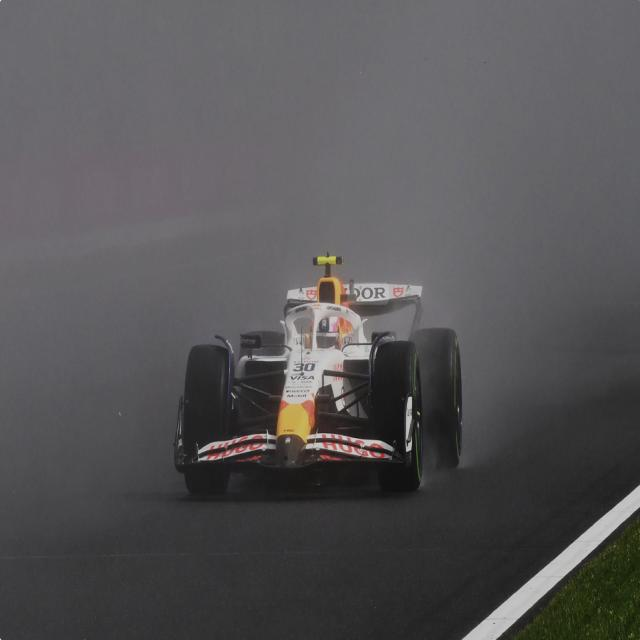Racing Bulls: (173, 252, 464, 503)
